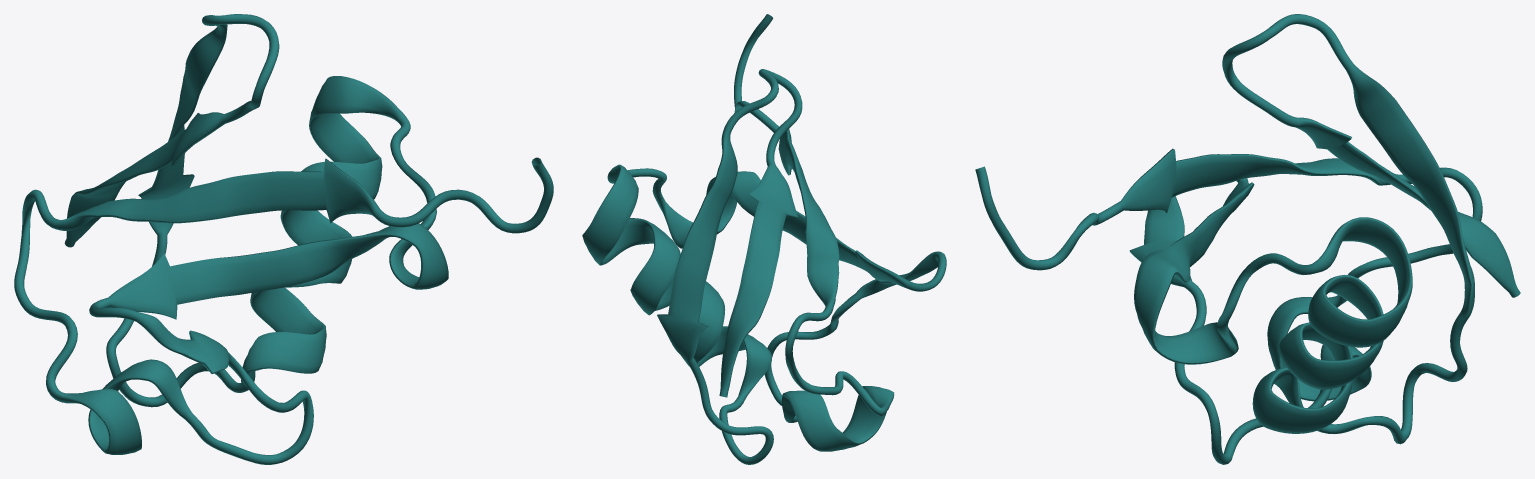
File: exUbq.obj
The picture shows the model from 3 angles, left to right: view 1: azimuth 30°, elevation 25°; view 2: azimuth 150°, elevation 25°; view 3: azimuth 270°, elevation 25°; orthographic projection. The views are drawn at different scales.
Parts seen in each view (by area): view 1: vmd_mol0_rep0; view 2: vmd_mol0_rep0; view 3: vmd_mol0_rep0.
Part boxes in pixels (bbox=[...]): vmd_mol0_rep0: bbox=[14, 14, 553, 464]; vmd_mol0_rep0: bbox=[582, 14, 946, 464]; vmd_mol0_rep0: bbox=[975, 14, 1520, 464].
Size of the model in its own units: 1.17 by 1.34 by 1.51.
